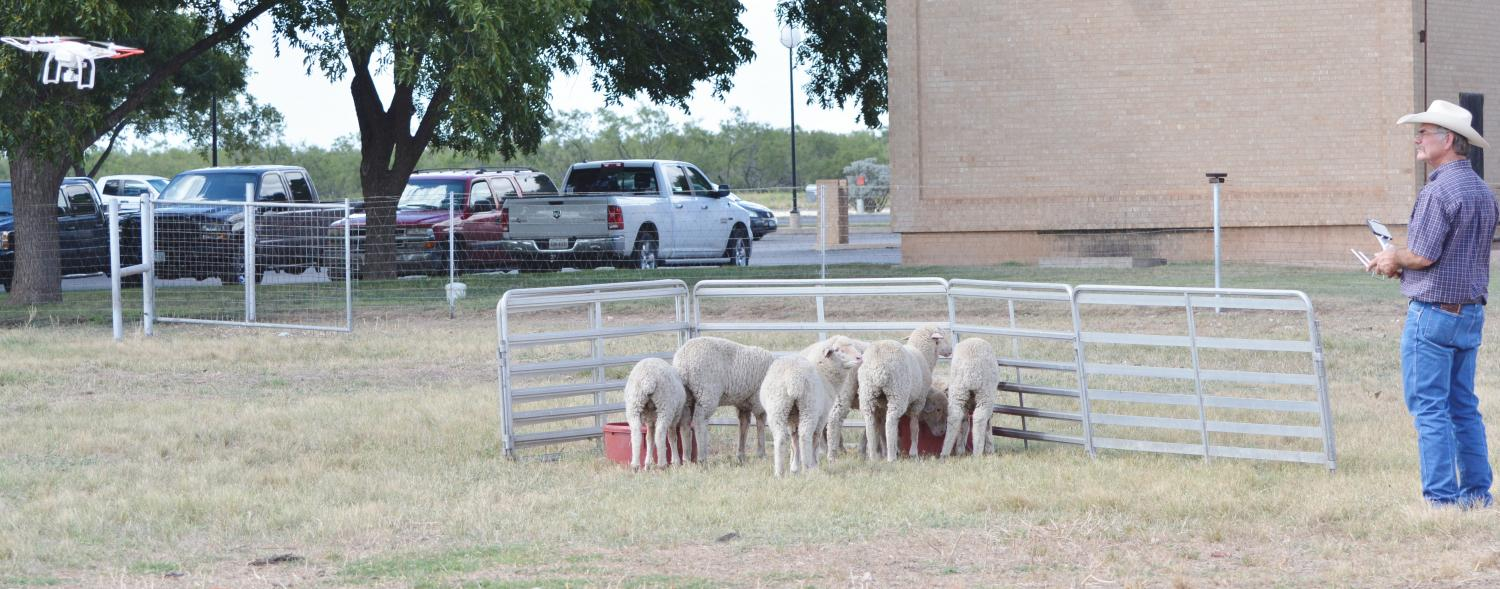sheep: (859, 318, 963, 469), (678, 331, 792, 463), (756, 337, 868, 464), (949, 338, 1011, 464), (625, 353, 692, 467)
